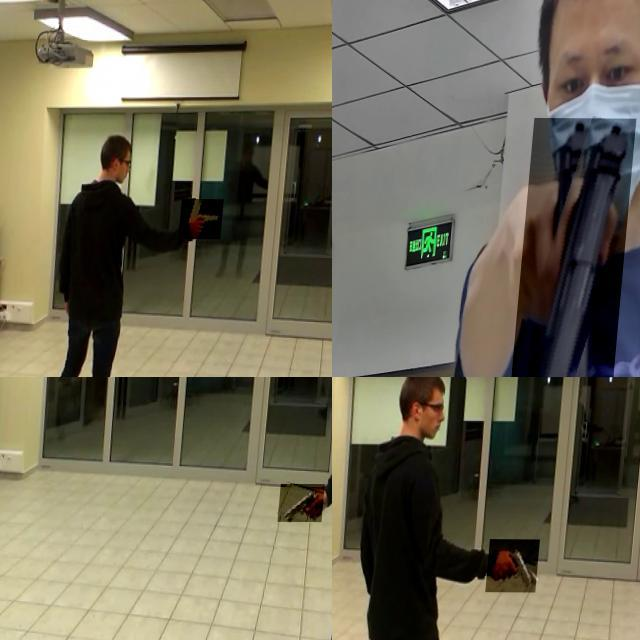gun-knife-thesis - v11 Yolov5 augmented: (515, 117, 640, 377), (494, 538, 548, 592), (184, 198, 230, 238), (286, 483, 332, 521)
